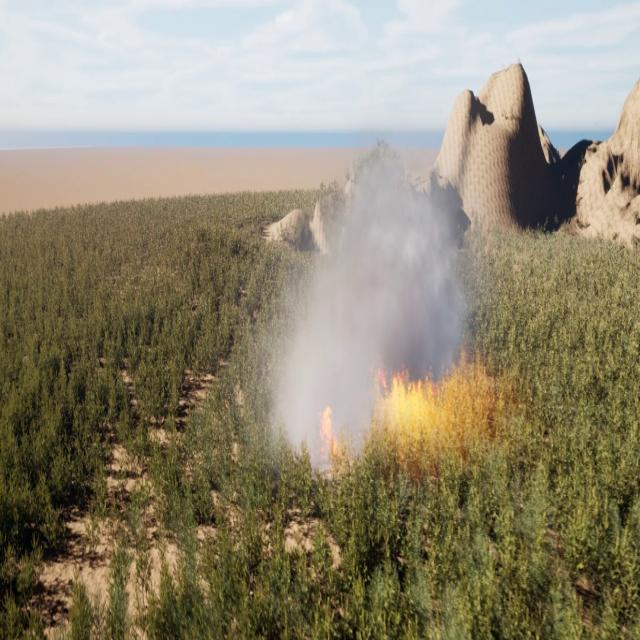fire: (371, 353, 506, 449), (319, 408, 354, 468)
smoke: (263, 115, 466, 477)
